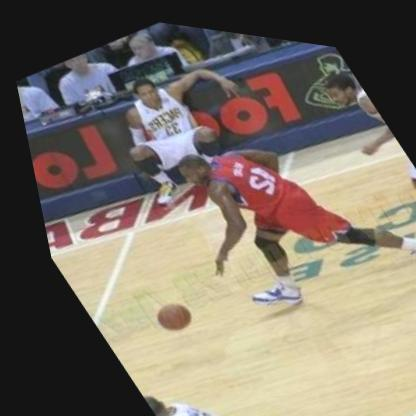basketball: (131, 286, 191, 340)
